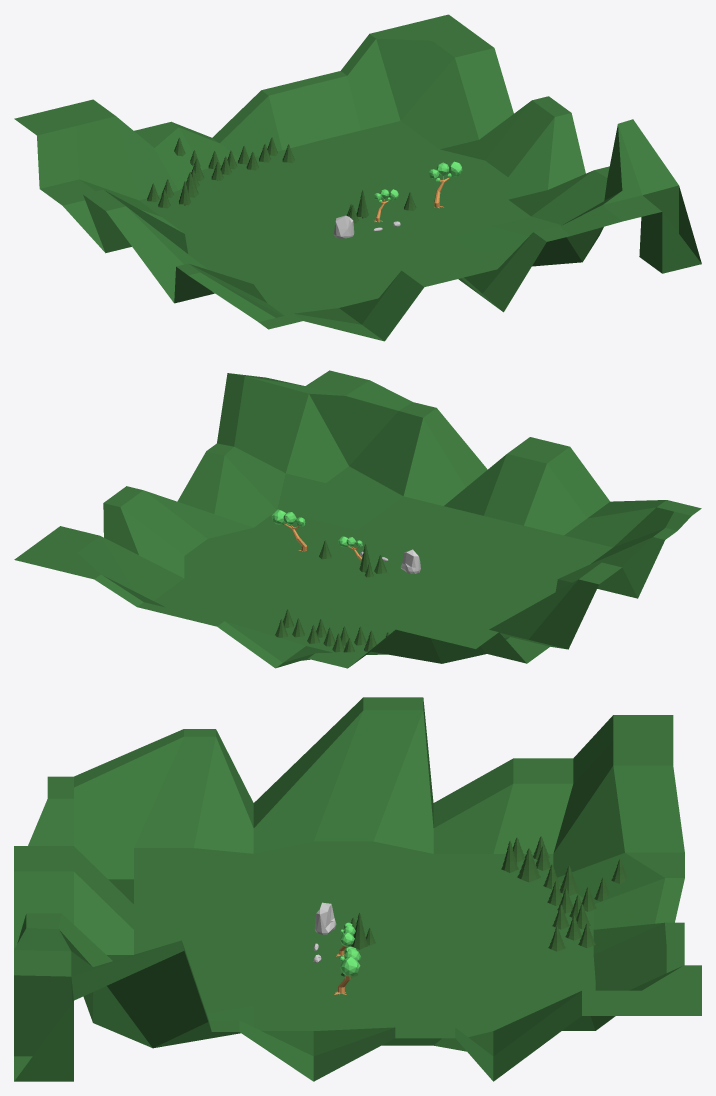
File: Level Low Poly Field.fbx
The picture shows the model from 3 angles, top to bottom: view 1: azimuth 30°, elevation 25°; view 2: azimuth 150°, elevation 25°; view 3: azimuth 270°, elevation 25°; orthographic projection. The views are drawn at different scales.
Visible parts, largest first — view 1: Plane, Cylinder.003; view 2: Plane, Cylinder.003; view 3: Plane, Cylinder.003.
Boxes of the visible parts, left/top/right/bottom form: Plane: left=14, top=14, right=701, bottom=341; Cylinder.003: left=429, top=161, right=462, bottom=208; Plane: left=14, top=370, right=701, bottom=668; Cylinder.003: left=271, top=509, right=306, bottom=551; Plane: left=14, top=697, right=701, bottom=1081; Cylinder.003: left=334, top=946, right=361, bottom=994.
Bounding box in the file's own units: 27778 × 5660 × 26452.
